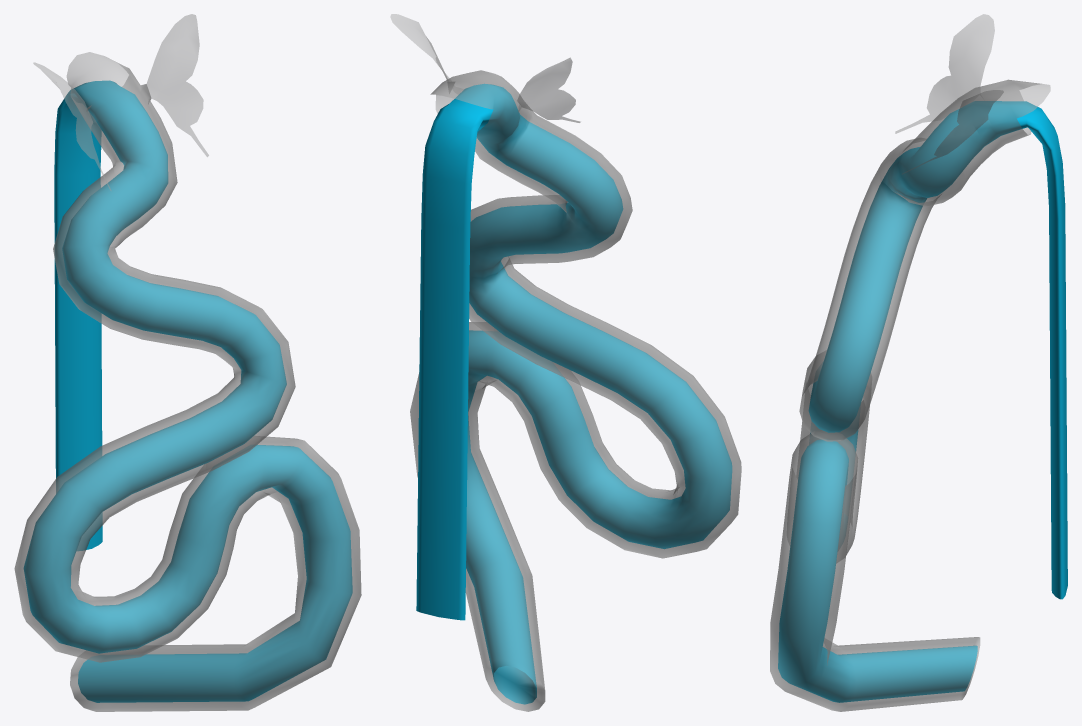
The model's file is obj_waterPipe.fbx.
3 renders of one model, left to right at view 1: azimuth 30°, elevation 25°; view 2: azimuth 150°, elevation 25°; view 3: azimuth 270°, elevation 25°, orthographic. The views are drawn at different scales.
Visible parts, largest first — view 1: obj_waterPipe; view 2: obj_waterPipe; view 3: obj_waterPipe.
Part boxes in pixels (box(x1,y1,x2,y2)): obj_waterPipe: box(14, 14, 361, 711); obj_waterPipe: box(390, 14, 741, 711); obj_waterPipe: box(770, 14, 1067, 711).
Bounding box in the file's own units: 1519 × 2944 × 1205.
